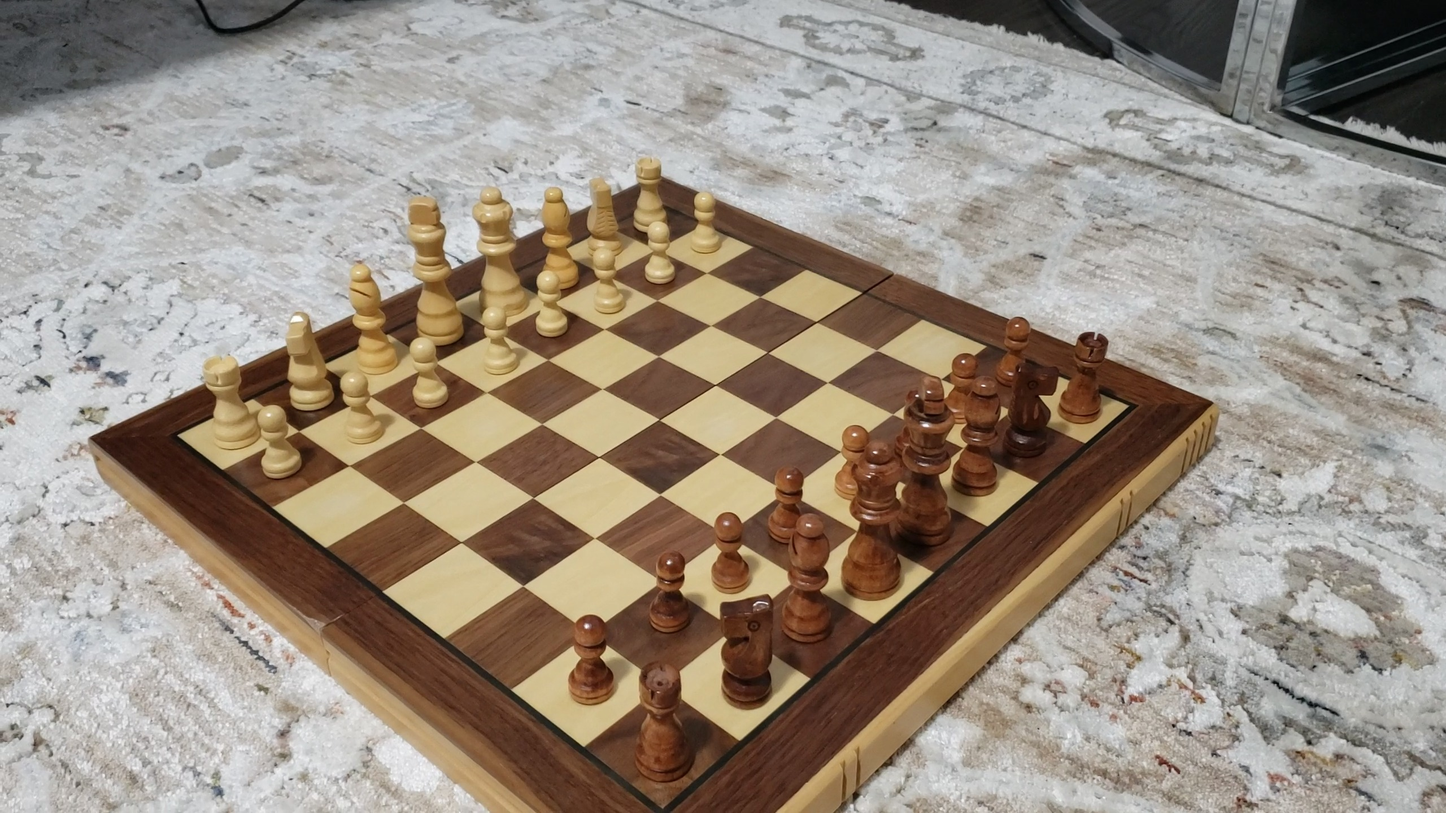black-bishop: (783, 512, 834, 644), (953, 376, 1004, 497)
black-king: (890, 376, 962, 547)
black-knight: (716, 593, 779, 709), (998, 360, 1051, 457)
black-pawn: (564, 611, 617, 709), (644, 548, 693, 636), (987, 312, 1036, 394), (707, 508, 752, 597), (764, 462, 809, 545), (940, 349, 985, 423), (833, 422, 872, 500)
black-queen: (837, 436, 911, 603)
black-rook: (633, 661, 691, 785), (1059, 330, 1110, 423)
white-bishop: (346, 257, 395, 375), (539, 183, 580, 294)
white-king: (404, 191, 464, 346)
white-knight: (282, 309, 337, 412), (585, 172, 623, 261)
white-pawn: (249, 402, 308, 484), (581, 235, 633, 319), (402, 333, 454, 414), (335, 369, 387, 449), (472, 307, 525, 380), (527, 266, 575, 343), (638, 216, 682, 290), (684, 187, 726, 259)
white-queen: (471, 181, 527, 327)
white-rook: (199, 353, 259, 451), (630, 152, 670, 235)
